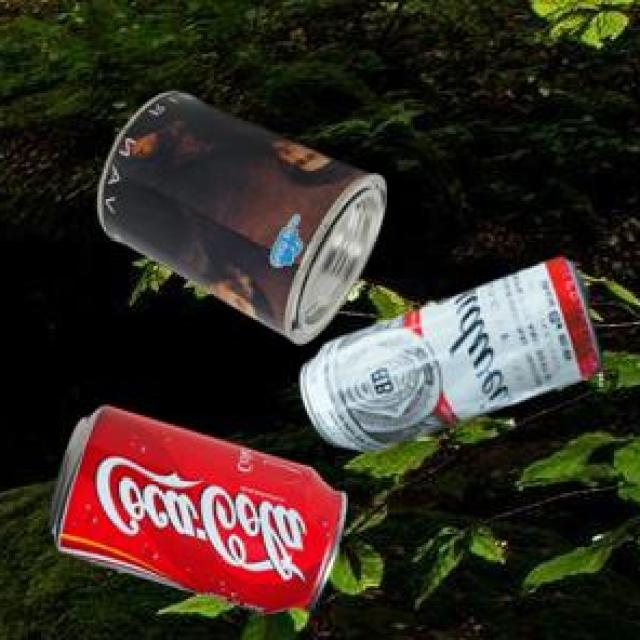logam: (101, 90, 388, 341), (53, 403, 349, 611), (304, 254, 606, 449)
